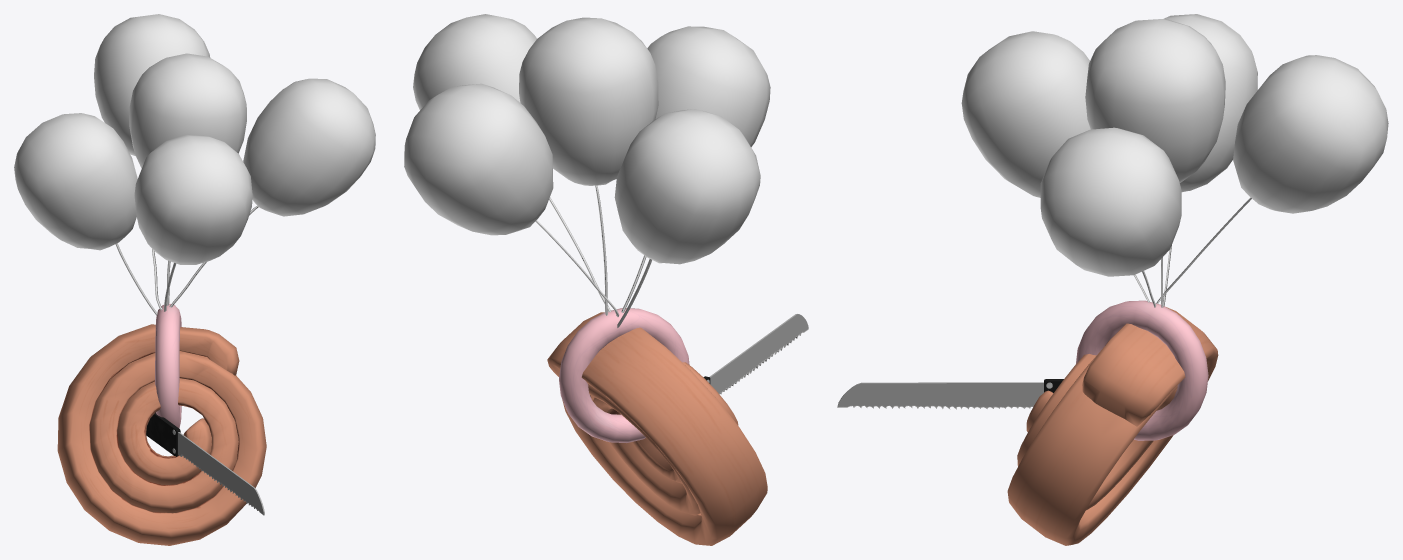
The model's file is cinnenim .fbx.
3 views of the same model, side by side, from view 1: azimuth 30°, elevation 25°; view 2: azimuth 150°, elevation 25°; view 3: azimuth 270°, elevation 25° (orthographic). The views are drawn at different scales.
Parts seen in each view (by area): view 1: Cube, Retopo_Cube.002, Retopo_Cube.001, Retopo_Cube, Retopo_Cube.004, Retopo_Cube.003, Torus, Cube.001, Cube.002; view 2: Cube, Retopo_Cube.003, Retopo_Cube.004, Retopo_Cube.001, Retopo_Cube, Retopo_Cube.002, Torus, Cube.001; view 3: Cube, Retopo_Cube.003, Retopo_Cube.002, Retopo_Cube.004, Retopo_Cube, Torus, Retopo_Cube.001, Cube.001.
Part boxes in pixels (x1=…): Cube: x1=57, y1=324, x2=266, y2=545; Retopo_Cube.002: x1=169, y1=78, x2=375, y2=307; Retopo_Cube.001: x1=14, y1=113, x2=157, y2=315; Retopo_Cube: x1=134, y1=134, x2=252, y2=311; Retopo_Cube.004: x1=129, y1=53, x2=246, y2=305; Retopo_Cube.003: x1=94, y1=14, x2=210, y2=310; Torus: x1=155, y1=303, x2=181, y2=428; Cube.001: x1=178, y1=432, x2=264, y2=515; Cube.002: x1=146, y1=412, x2=180, y2=456; Cube: x1=547, y1=312, x2=767, y2=545; Retopo_Cube.003: x1=404, y1=83, x2=619, y2=316; Retopo_Cube.004: x1=519, y1=17, x2=658, y2=315; Retopo_Cube.001: x1=614, y1=109, x2=760, y2=327; Retopo_Cube: x1=621, y1=26, x2=770, y2=312; Retopo_Cube.002: x1=413, y1=14, x2=610, y2=311; Torus: x1=559, y1=308, x2=689, y2=442; Cube.001: x1=709, y1=314, x2=808, y2=394; Cube: x1=1007, y1=307, x2=1218, y2=545; Retopo_Cube.003: x1=1156, y1=55, x2=1388, y2=303; Retopo_Cube.002: x1=1040, y1=127, x2=1181, y2=307; Retopo_Cube.004: x1=1085, y1=19, x2=1225, y2=307; Retopo_Cube: x1=961, y1=31, x2=1149, y2=302; Torus: x1=1075, y1=300, x2=1208, y2=440; Retopo_Cube.001: x1=1163, y1=14, x2=1257, y2=306; Cube.001: x1=837, y1=382, x2=1043, y2=409.
Size of the model in its own units: 400 by 548 by 507.
